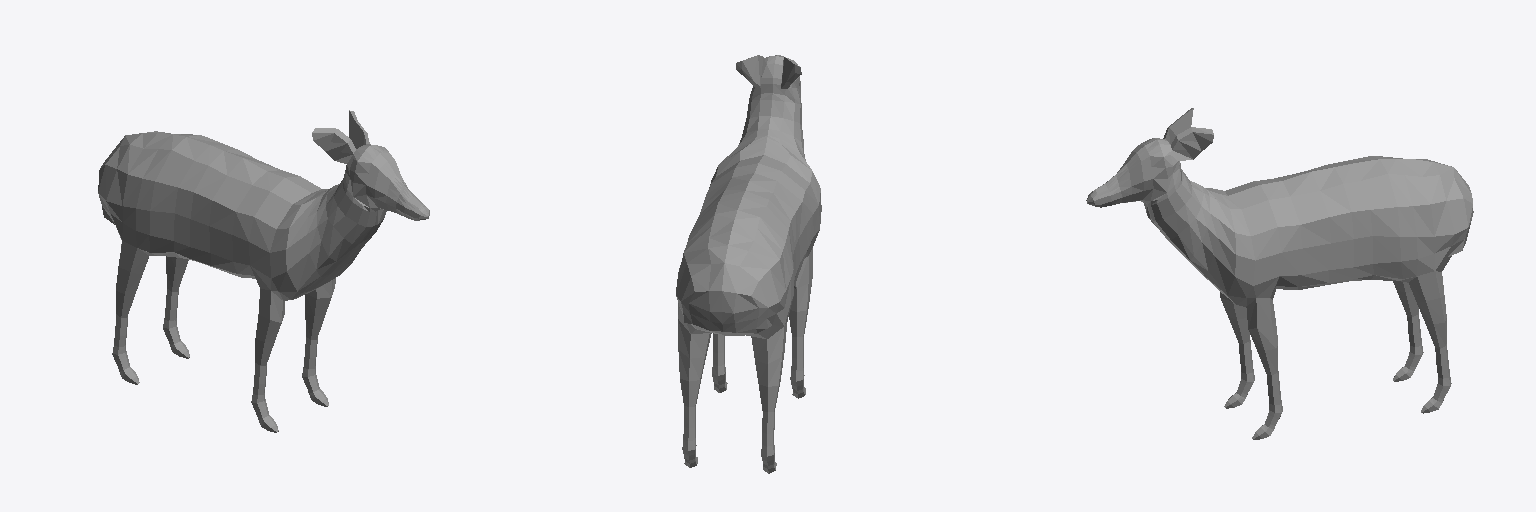
The model's file is Bambi.obj.
3 renders of one model, left to right at view 1: azimuth 30°, elevation 25°; view 2: azimuth 150°, elevation 25°; view 3: azimuth 270°, elevation 25°, orthographic.
Parts seen in each view (by area): view 1: Cylinder.001; view 2: Cylinder.001; view 3: Cylinder.001.
Boxes of the visible parts, box(x1,y1,x2,y2) form: Cylinder.001: box(98, 110, 429, 432); Cylinder.001: box(676, 55, 821, 473); Cylinder.001: box(1086, 108, 1473, 439).
Size of the model in its own units: 4.19 by 7.73 by 8.7.